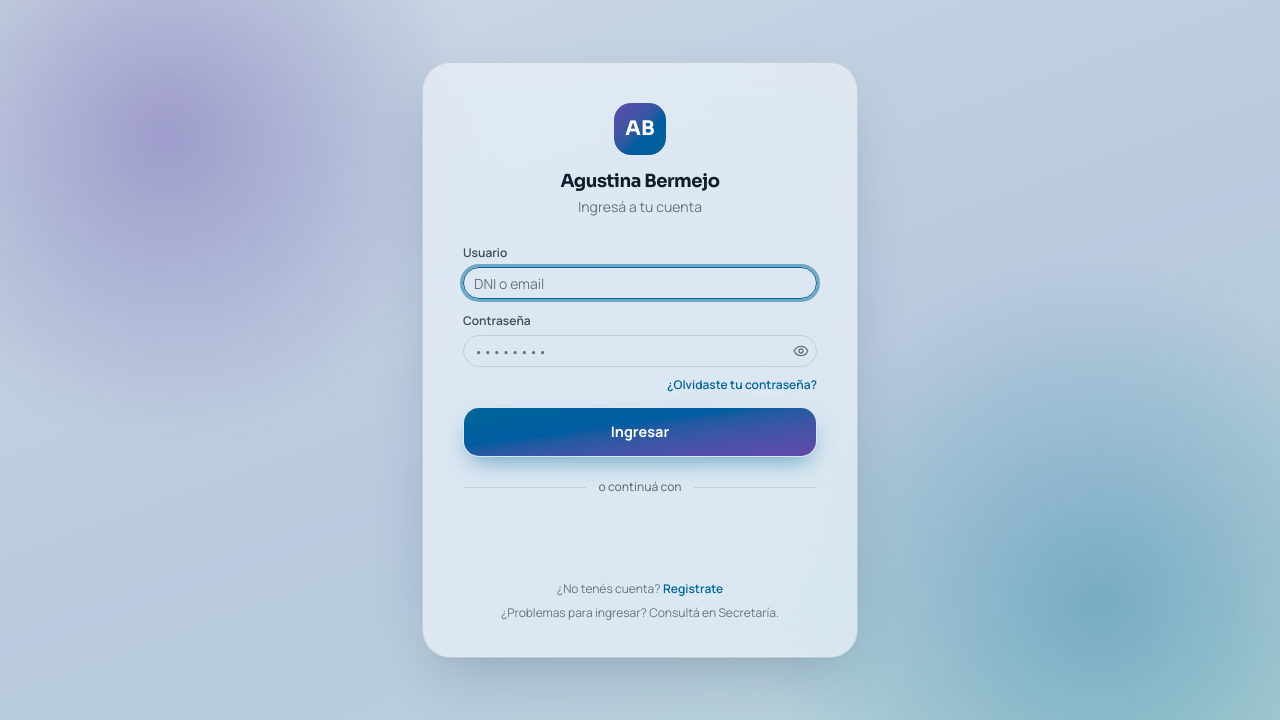
Test: flujo de login end-to-end › login válido redirige a /preceptor/inicio para un usuario con rol PRECEPTOR (mock default)
This screenshot has width=1280, height=720.
In the field with placeholder "DNI o email": (640,283) [463, 267, 817, 299], type "prueba.login"
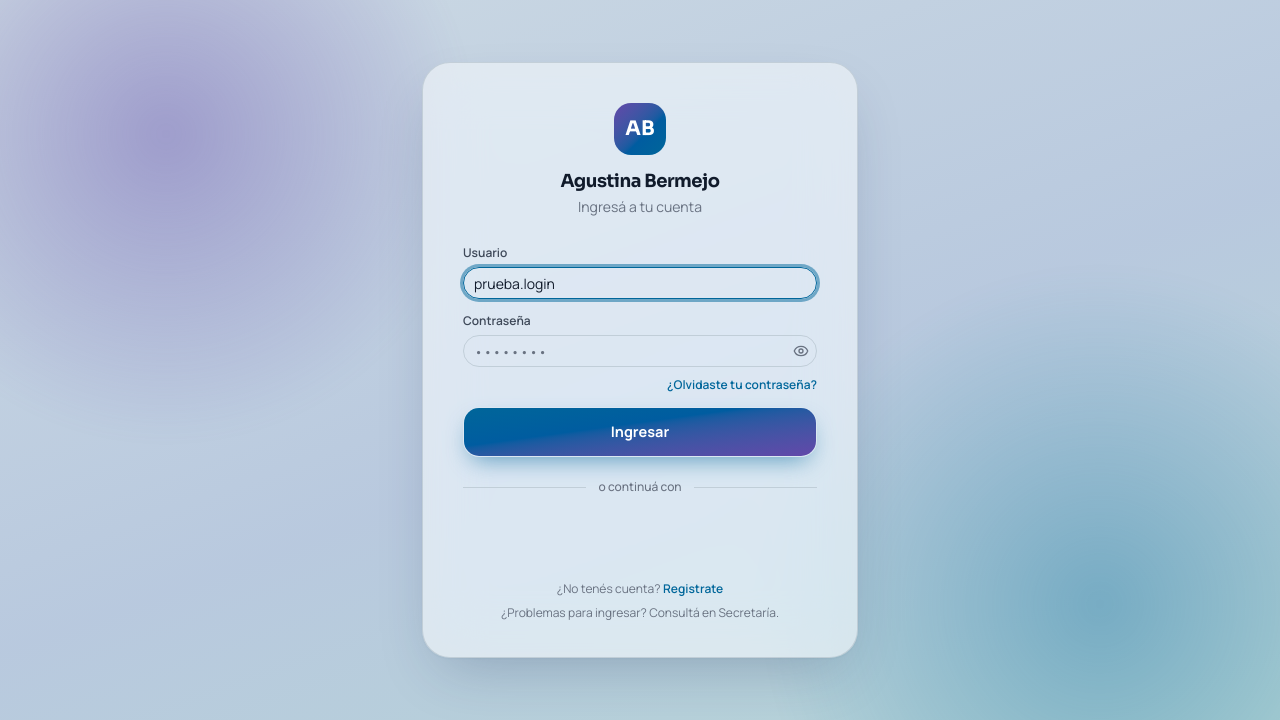
In the password field with placeholder "••••••••": (640,351) [463, 335, 817, 367], type "Test1234"
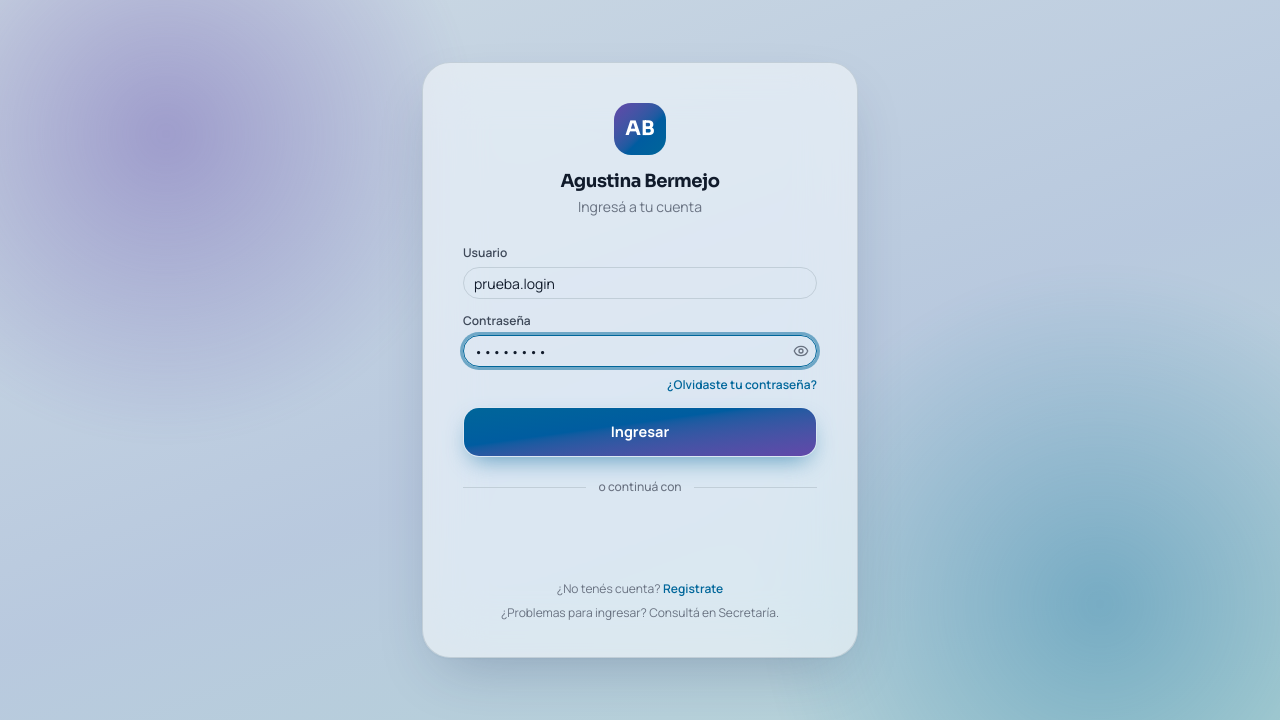
Click the button "Ingresar": (640,432) [463, 407, 817, 457]
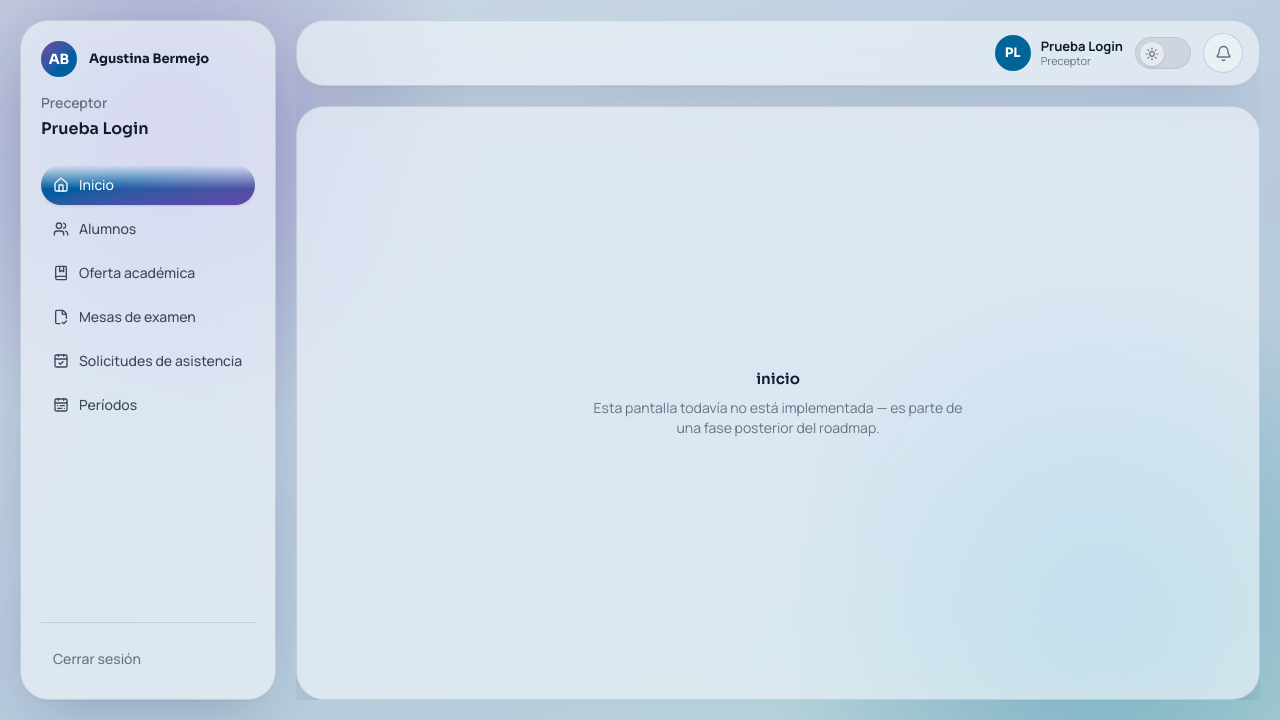
Expected: the text "Preceptor" is shown 3 times
Expected: the text "Prueba Login" is shown 2 times, [41, 118, 149, 139]; [1041, 38, 1123, 54]
